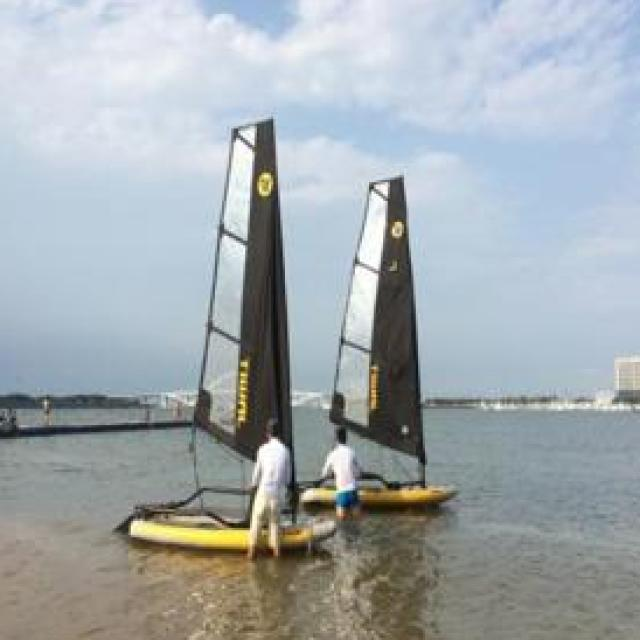sailboat: (123, 108, 333, 548), (306, 168, 475, 509)
